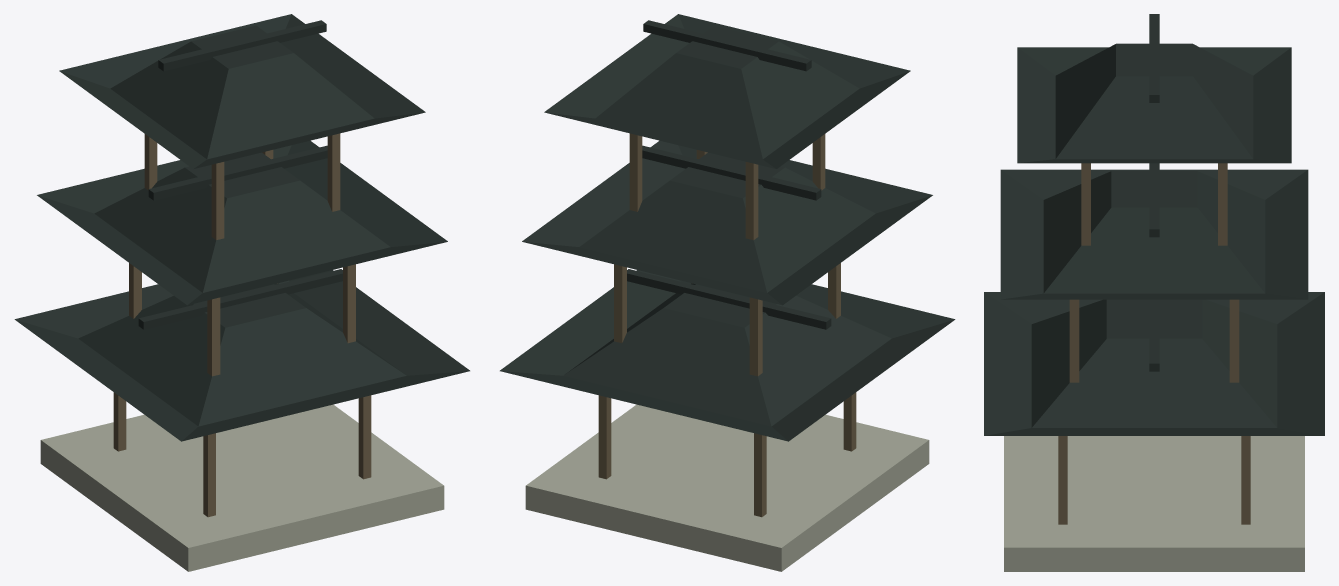
File: pagoda.glb
3 views of the same model, side by side, from view 1: azimuth 30°, elevation 25°; view 2: azimuth 150°, elevation 25°; view 3: azimuth 270°, elevation 25° (orthographic). The views are drawn at different scales.
Visible parts, largest first — view 1: pagoda; view 2: pagoda; view 3: pagoda.
Part boxes in pixels (<box>): pagoda: <box>14,14,469,571</box>; pagoda: <box>500,14,955,571</box>; pagoda: <box>984,14,1324,571</box>.
Bounding box in the file's own units: 4.3 × 6.32 × 4.3.
